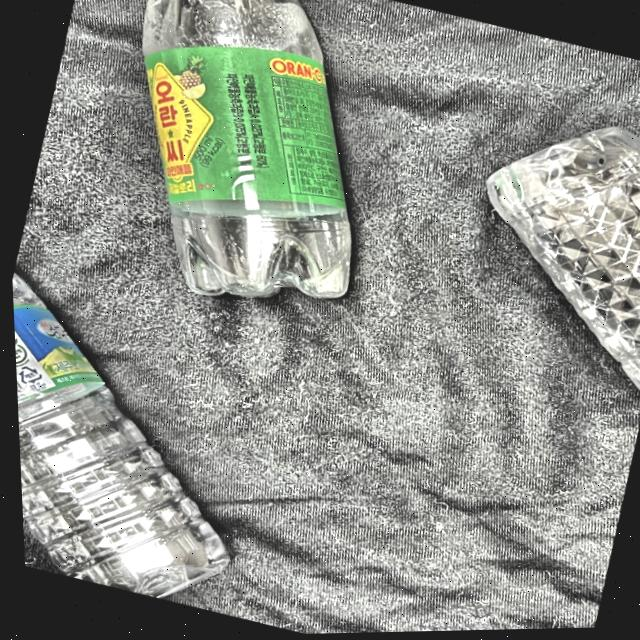plastic: (10, 265, 258, 604), (131, 0, 366, 321), (453, 94, 640, 400)
